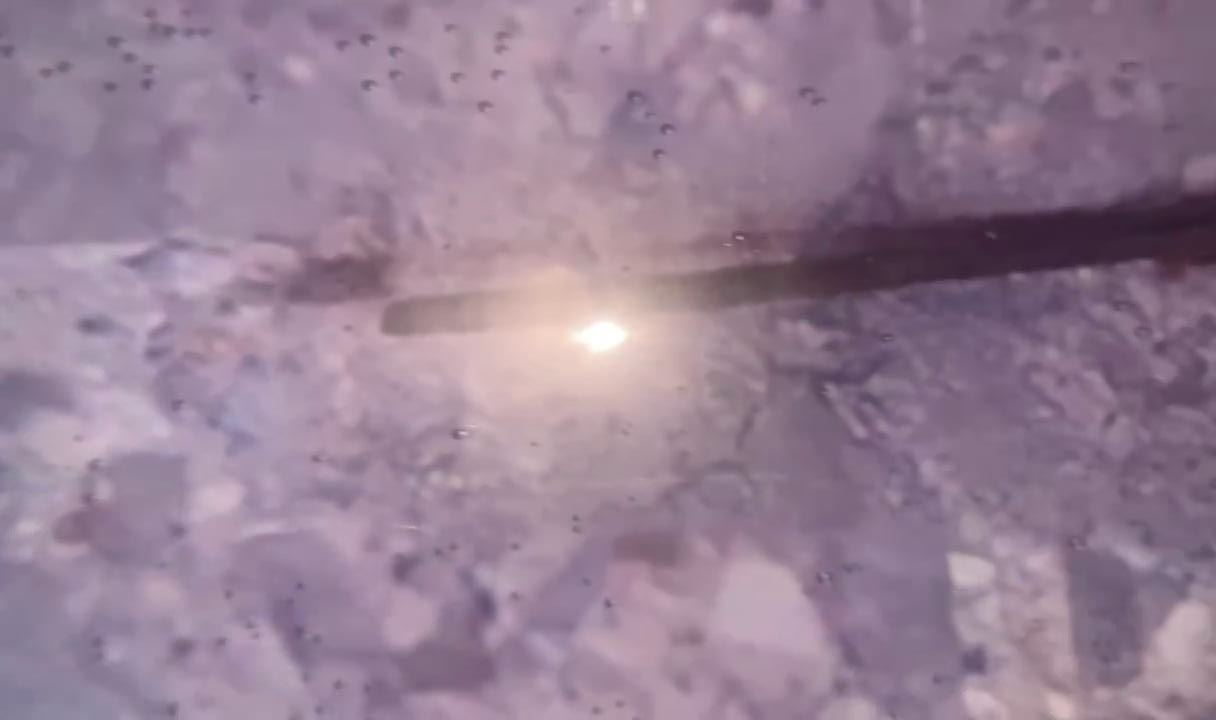Exposed reinforcement: (378, 206, 1216, 337)
